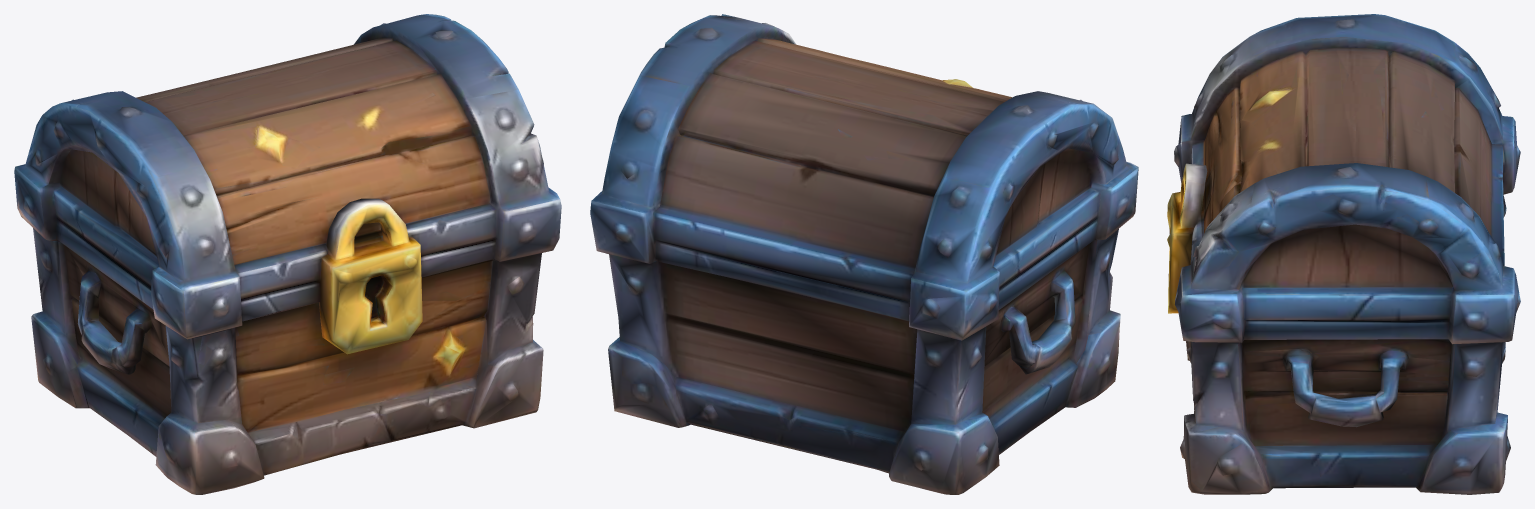
The model's file is DECOR3.glb.
3 renders of one model, left to right at view 1: azimuth 30°, elevation 25°; view 2: azimuth 150°, elevation 25°; view 3: azimuth 270°, elevation 25°, orthographic. The views are drawn at different scales.
Parts seen in each view (by area): view 1: node_0; view 2: node_0; view 3: node_0.
Boxes of the visible parts, x1=… form: node_0: x1=14, y1=14, x2=561, y2=494; node_0: x1=590, y1=14, x2=1138, y2=494; node_0: x1=1167, y1=14, x2=1520, y2=494.
Bounding box in the file's own units: 0.8676 × 0.6948 × 0.7013.
1 material, 1 textured.
